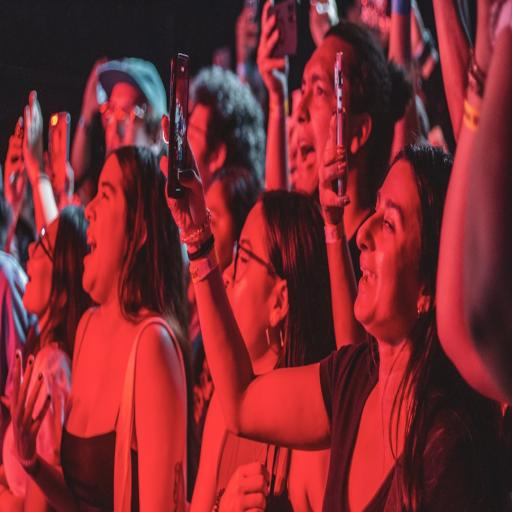face: (355, 160, 421, 343), (295, 36, 352, 194), (224, 203, 276, 361), (83, 155, 127, 304), (23, 219, 58, 319)
